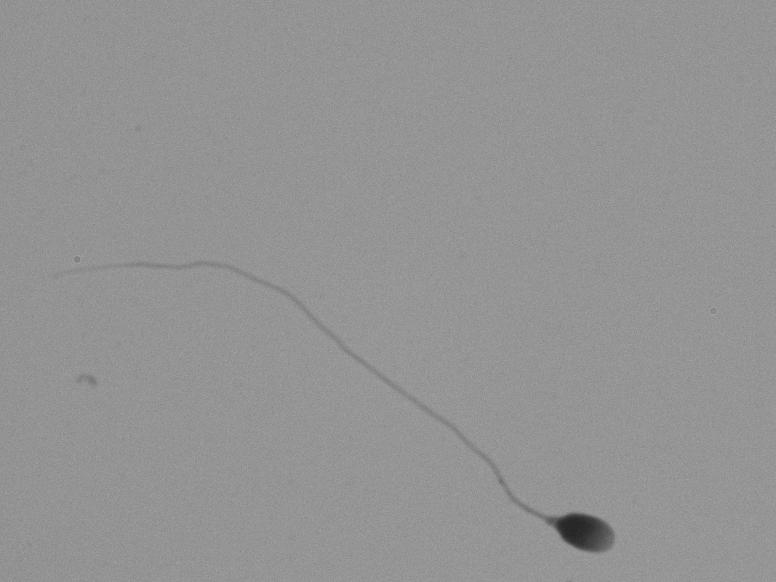Normal: (69, 174, 653, 574)
